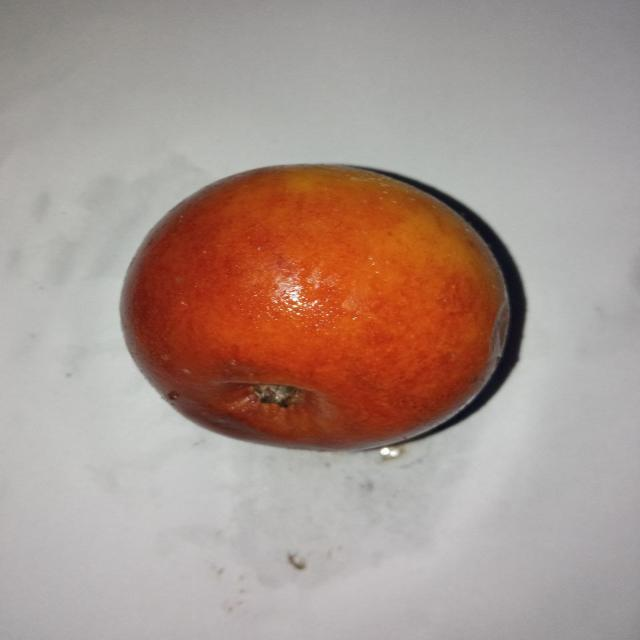fresh_apple: (111, 161, 513, 452)
